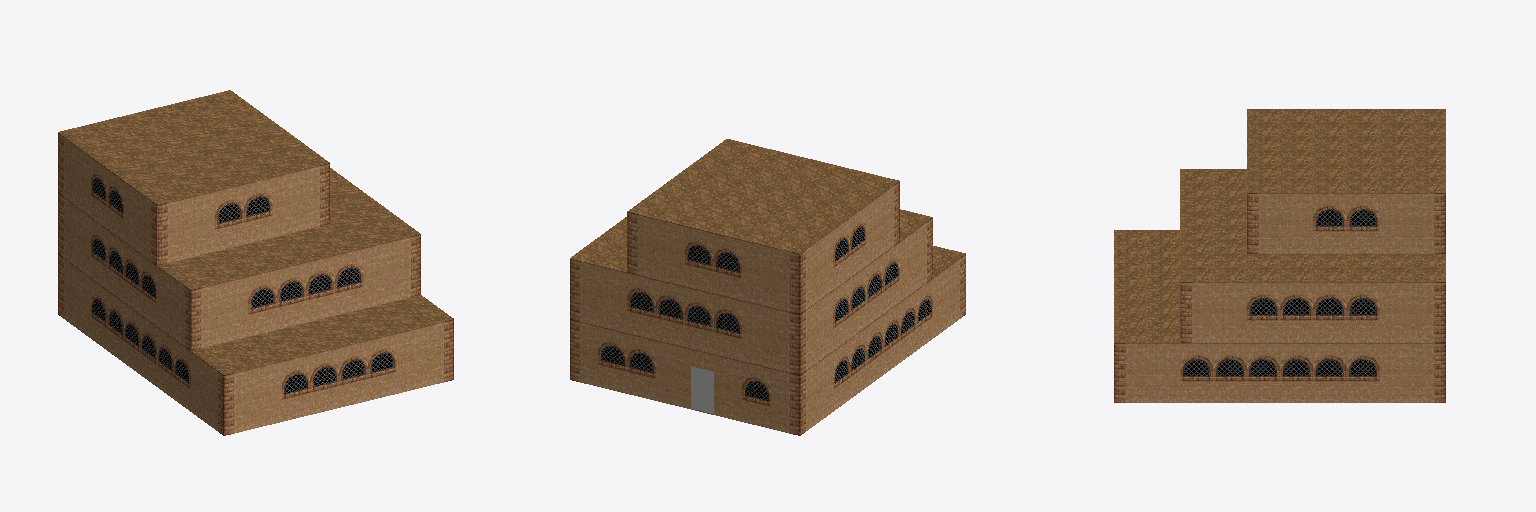
The picture shows the model from 3 angles: view 1: azimuth 30°, elevation 25°; view 2: azimuth 150°, elevation 25°; view 3: azimuth 270°, elevation 25°; orthographic projection.
Visible parts, largest first — view 1: model639-node; view 2: model639-node; view 3: model639-node.
Boxes of the visible parts, box(x1,y1,x2,y2) form: model639-node: box(58, 90, 453, 435); model639-node: box(570, 139, 965, 435); model639-node: box(1114, 109, 1445, 402).
Bounding box in the file's own units: 512 × 387 × 640.
Materials: 5 (4 with a texture image).